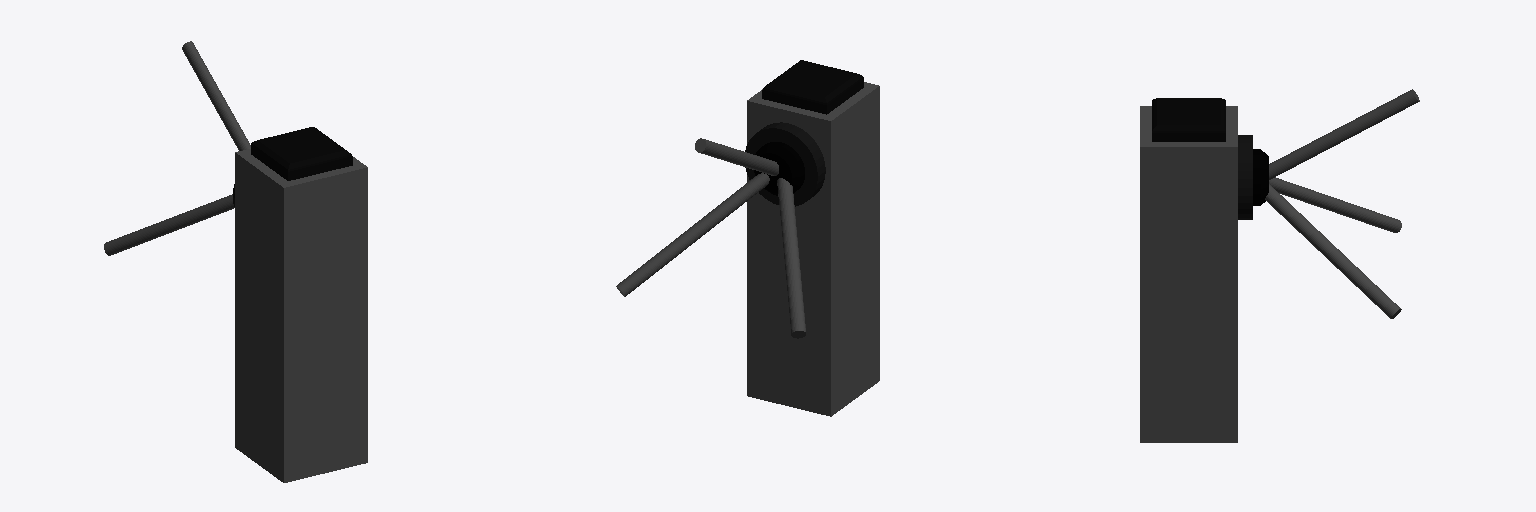
Rendered from turniket.obj.
The picture shows the model from 3 angles: view 1: azimuth 30°, elevation 25°; view 2: azimuth 150°, elevation 25°; view 3: azimuth 270°, elevation 25°; orthographic projection.
Parts seen in each view (by area): view 1: Куб, Куб.001, Цилиндр.001, Цилиндр.004; view 2: Куб, Куб.001, Цилиндр.003, Цилиндр, Цилиндр.001, Цилиндр.002, Цилиндр.004; view 3: Куб, Куб.001, Цилиндр.003, Цилиндр.004, Цилиндр.001, Цилиндр, Цилиндр.002.
Boxes of the visible parts, x1=… form: Куб: x1=235, y1=149, x2=367, y2=482; Куб.001: x1=251, y1=127, x2=352, y2=180; Цилиндр.001: x1=104, y1=194, x2=234, y2=255; Цилиндр.004: x1=182, y1=41, x2=250, y2=150; Куб: x1=747, y1=82, x2=879, y2=416; Куб.001: x1=762, y1=60, x2=863, y2=114; Цилиндр.003: x1=616, y1=173, x2=769, y2=296; Цилиндр: x1=745, y1=122, x2=825, y2=206; Цилиндр.001: x1=777, y1=178, x2=805, y2=338; Цилиндр.002: x1=754, y1=142, x2=804, y2=195; Цилиндр.004: x1=695, y1=138, x2=778, y2=175; Куб: x1=1140, y1=106, x2=1237, y2=442; Куб.001: x1=1152, y1=98, x2=1225, y2=141; Цилиндр.003: x1=1265, y1=184, x2=1401, y2=318; Цилиндр.004: x1=1269, y1=89, x2=1419, y2=179; Цилиндр.001: x1=1269, y1=177, x2=1401, y2=232; Цилиндр: x1=1238, y1=135, x2=1252, y2=219; Цилиндр.002: x1=1253, y1=149, x2=1268, y2=205.
Size of the model in its own units: 4.5 by 7.53 by 5.74.